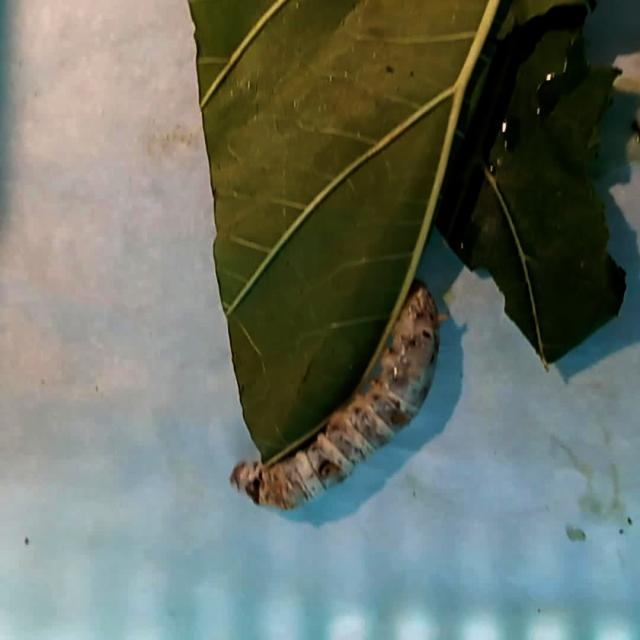Grasserie: (223, 271, 455, 525)
